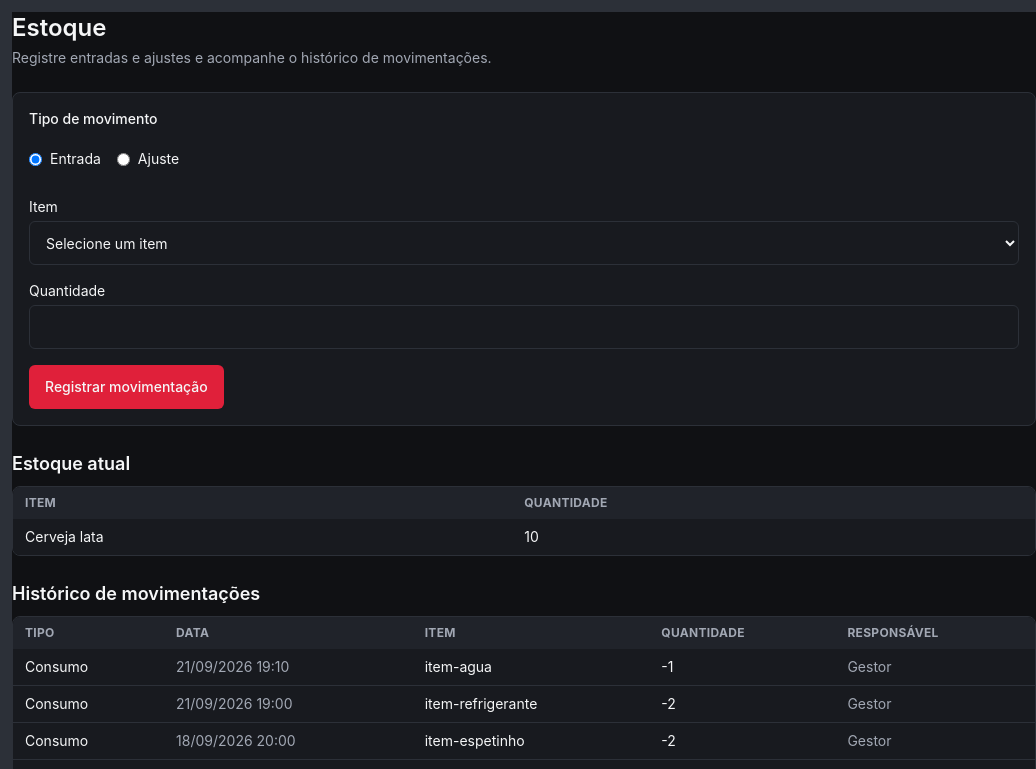
InventoryView › prevents submission and shows a validation message for an invalid quantity
Expected: the text "10" is shown, [524,528,539,545]
Select "Cerveja lata" in the dropdown labelled "Item": (524, 243) [29,221,1019,265]
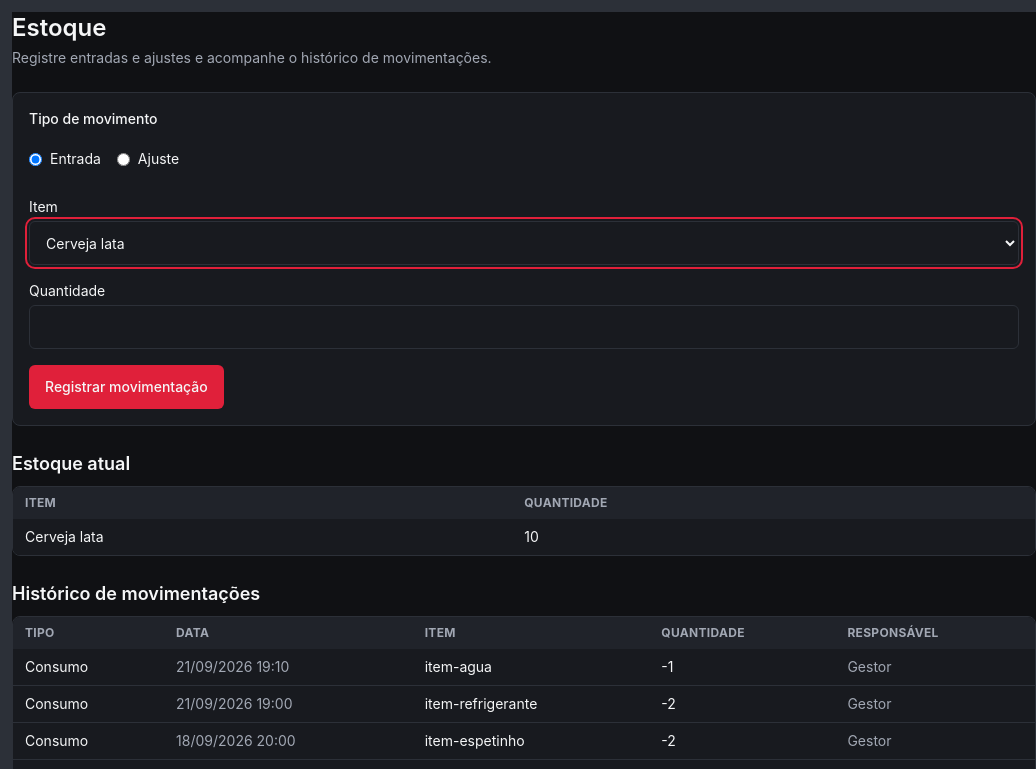
In the field labelled "Quantidade": (524, 327) [29,305,1019,349], type "0"
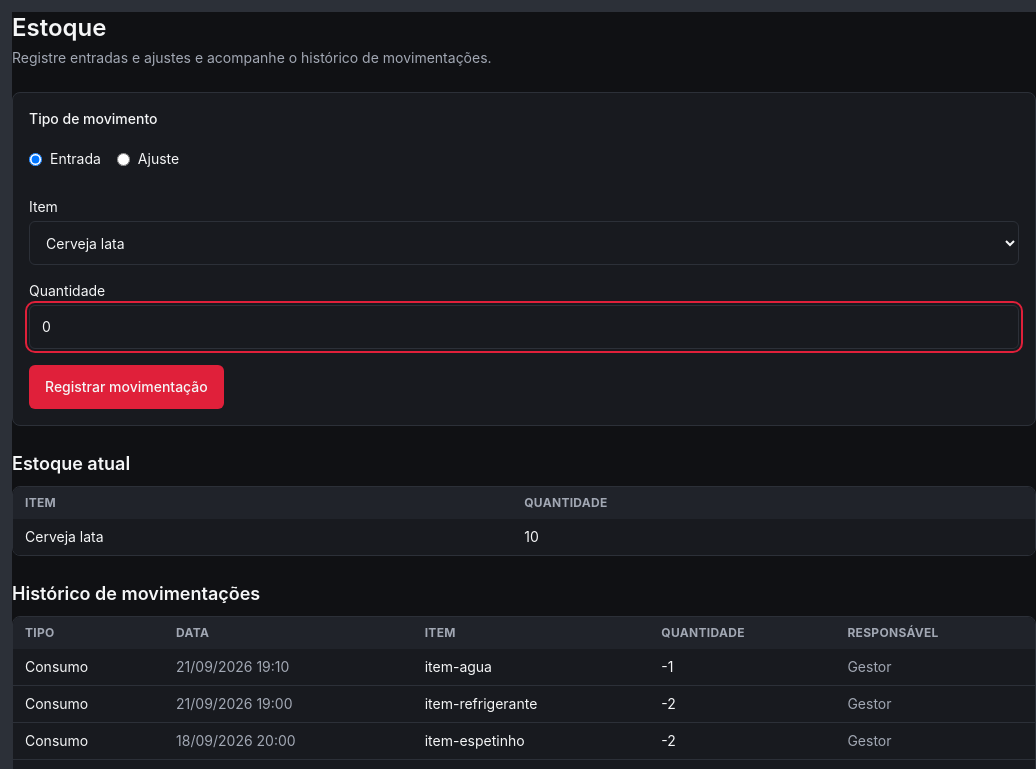
Click the button "Registrar movimentação": (126, 387) [29,365,224,409]
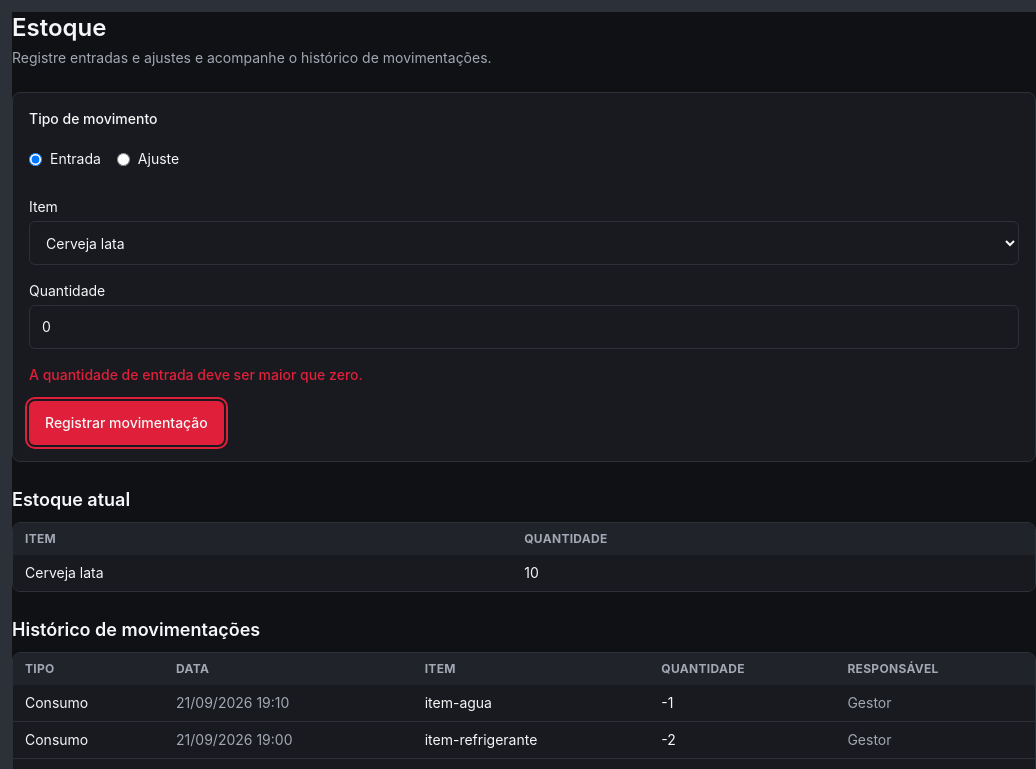
Expected: the text "A quantidade de entrada deve ser maior que zero." is shown, [29,366,363,383]
